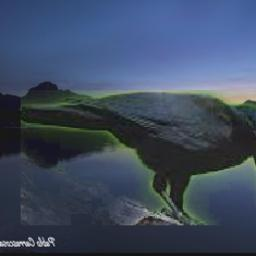Crow: (20, 90, 256, 225)
